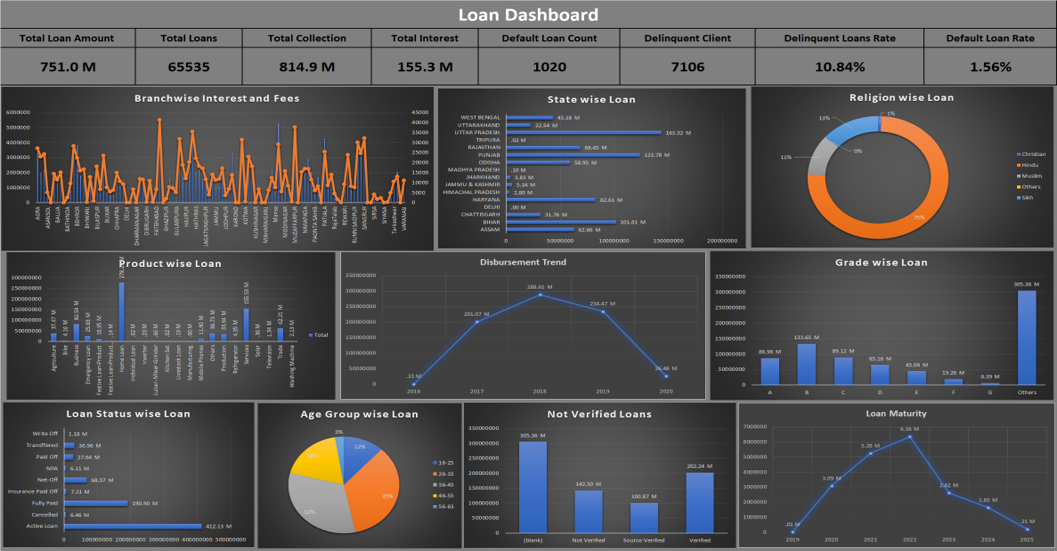

This screenshot's page, from the dashboard's own definition file:
{"tool":"tableau","page":{"name":"Dashboard 1","canvas":[1000,1000],"units":"permille","ordinal":0},"visuals":[{"type":"worksheet","title":"Total Loan Funded Amount","mark":"Automatic","box":[4.8,10,121.4,144.8]},{"type":"worksheet","title":"Total Loan","mark":"Automatic","box":[126.2,10,75.7,144.8]},{"type":"worksheet","title":"Total Collection","mark":"Automatic","box":[201.9,10,122,144.8]},{"type":"worksheet","title":"Total Interest","mark":"Automatic","box":[324,10,120.9,144.8]},{"type":"worksheet","title":"Default Loan","mark":"Automatic","box":[444.9,10,110.6,144.8]},{"type":"worksheet","title":"Delinquent Loan","mark":"Automatic","box":[555.4,10,121.5,144.8]},{"type":"worksheet","title":"Default Loan Rate","mark":"Automatic","box":[676.9,10,108.9,144.8]},{"type":"worksheet","title":"Delinquent Loan Rate","mark":"Automatic","box":[785.8,10,112.8,144.8]},{"type":"filter","title":"Branch-wise Perfomance","param":"[federated.0k5dk7v0utm83913nauem01jgkbv].[none:Branch Name:nk]","box":[898.6,10,96.6,980]},{"type":"worksheet","title":"Branch-wise Perfomance","mark":"Bar","cols":["Total Rrec int","Total Fees","Calculation_1017250630917292032"],"box":[4.8,154.8,257.6,344.6]},{"type":"worksheet","title":"State-wise Loan","mark":"Automatic","box":[262.4,154.8,216.2,511.9]},{"type":"worksheet","title":"Religion-wise Loan","mark":"Pie","box":[478.6,154.8,172.7,414.5]},{"type":"worksheet","title":"Disbursement Trend","mark":"Line","rows":["Loan Amount"],"cols":["Disbursement Date"],"box":[651.3,154.8,247.3,414.5]},{"type":"dashboard-object","box":[978.9,157.3,14.5,30]},{"type":"worksheet","title":"Product Group-wise Loan","mark":"Bar","rows":["Purpose Category"],"cols":["Loan Amount"],"box":[4.8,499.3,257.6,285.6]},{"type":"worksheet","title":"Loan Status-wise Loan","mark":"Automatic","rows":["Loan Status"],"cols":["Loan Amount"],"box":[478.6,569.2,210,420.8]},{"type":"worksheet","title":"Age Group-wise Loan","mark":"Pie","rows":["Calculation_671317884504694790","Calculation_671317884504694790"],"box":[688.6,569.2,210,420.8]},{"type":"worksheet","title":"No Verified Loans","mark":"Bar","rows":["Calculation_671317884499546116"],"cols":["Verification Status"],"box":[262.4,666.6,216.2,323.4]},{"type":"worksheet","title":"Grade-wise Loan","mark":"Automatic","rows":["Loan Amount"],"cols":["Grrade"],"box":[4.8,784.9,257.6,205.1]}]}

Visuals, with their boxes on the dashboard's canvas, which has no fixed pixel size, in thousandths of its width and height (x1, y1, x2, y2). These are canvas units, not pixel positions in the 1057x551 screenshot, which may show the page scaled, cropped or inside an application window:
"Total Loan Funded Amount" worksheet: crop(5, 10, 126, 155)
"Total Loan" worksheet: crop(126, 10, 202, 155)
"Total Collection" worksheet: crop(202, 10, 324, 155)
"Total Interest" worksheet: crop(324, 10, 445, 155)
"Default Loan" worksheet: crop(445, 10, 556, 155)
"Delinquent Loan" worksheet: crop(555, 10, 677, 155)
"Default Loan Rate" worksheet: crop(677, 10, 786, 155)
"Delinquent Loan Rate" worksheet: crop(786, 10, 899, 155)
"Branch-wise Perfomance" filter: crop(899, 10, 995, 990)
"Branch-wise Perfomance" worksheet (Bar marks): crop(5, 155, 262, 499)
"State-wise Loan" worksheet: crop(262, 155, 479, 667)
"Religion-wise Loan" worksheet (Pie marks): crop(479, 155, 651, 569)
"Disbursement Trend" worksheet (Line marks): crop(651, 155, 899, 569)
dashboard-object: crop(979, 157, 993, 187)
"Product Group-wise Loan" worksheet (Bar marks): crop(5, 499, 262, 785)
"Loan Status-wise Loan" worksheet: crop(479, 569, 689, 990)
"Age Group-wise Loan" worksheet (Pie marks): crop(689, 569, 899, 990)
"No Verified Loans" worksheet (Bar marks): crop(262, 667, 479, 990)
"Grade-wise Loan" worksheet: crop(5, 785, 262, 990)
